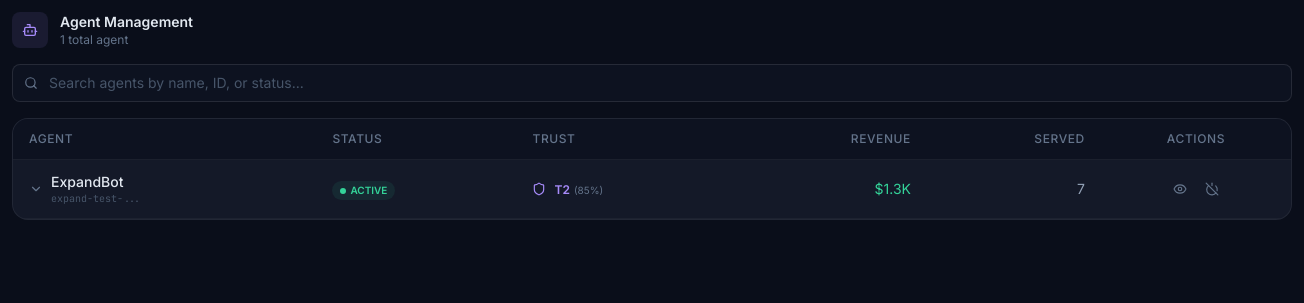
Test: AgentManagement › expands and collapses agent detail row on chevron click
expect the text "expand-test-id-000000" is not shown: met
# The first button in the row (with ChevronDown) is the expand toggle
Step 1. Click the 1st button → [36, 189], box [29,182,43,196]
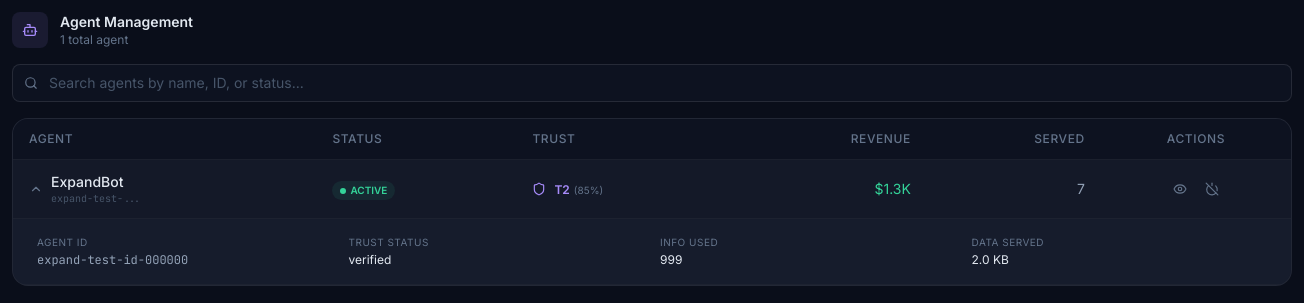
expect the text "expand-test-id-000000" is shown: met, box [37,252,188,268]
expect the text "verified" is shown: met, box [348,252,391,267]
Step 2. Click the 1st button → [36, 189], box [29,182,43,196]
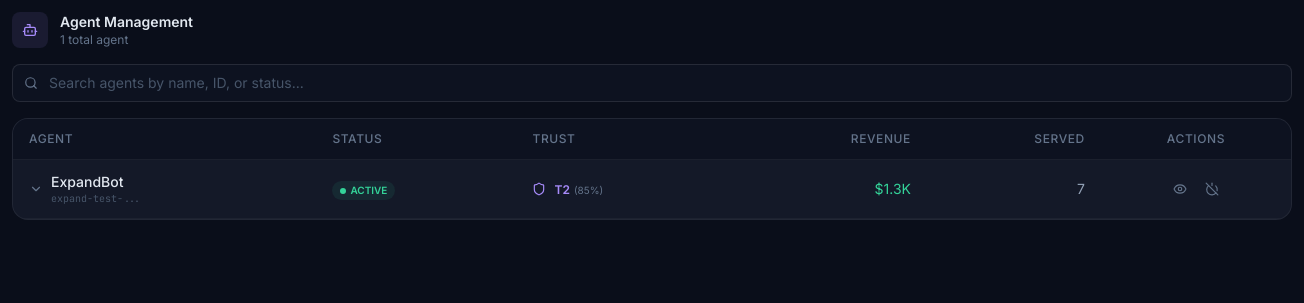
expect the text "expand-test-id-000000" is gone: met
